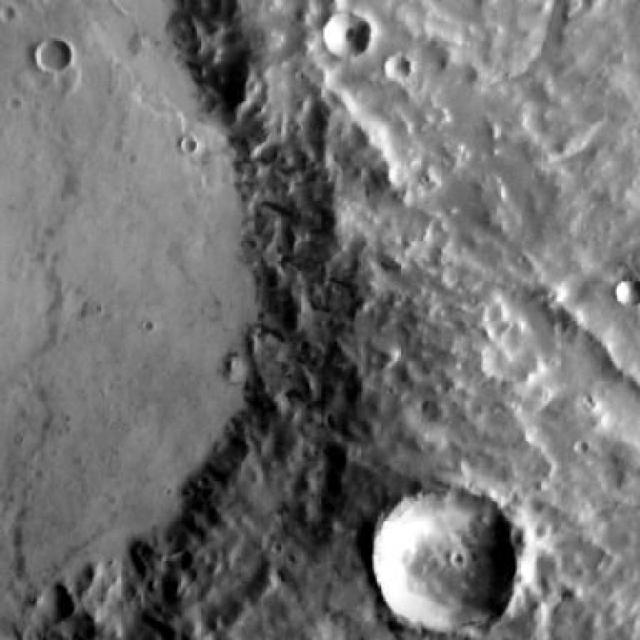crater: (0, 0, 298, 627), (364, 485, 510, 630), (325, 10, 370, 52), (27, 36, 61, 70), (611, 277, 640, 306), (385, 55, 410, 79)
